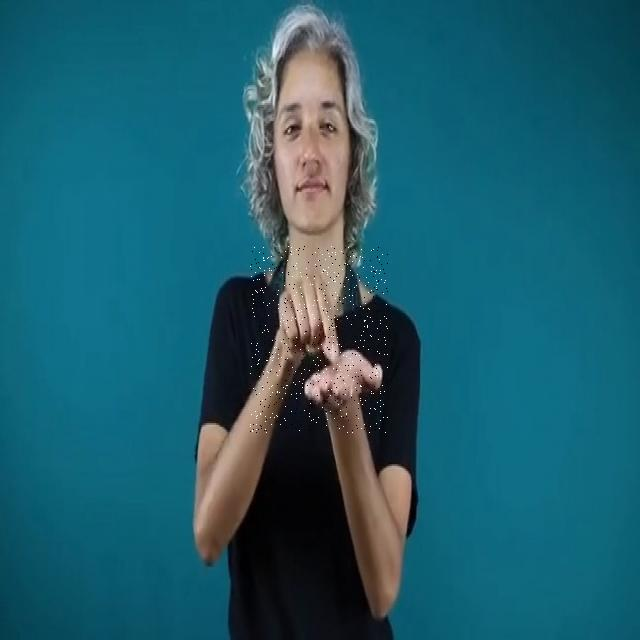chicken: (250, 246, 388, 433)
